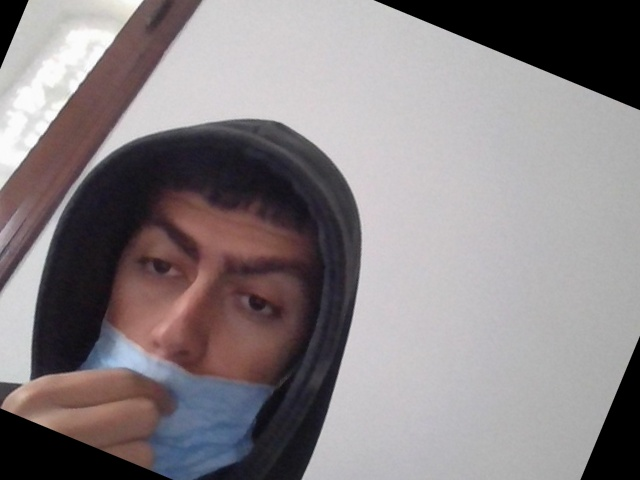mask_weared_incorrect: (67, 152, 327, 480)
